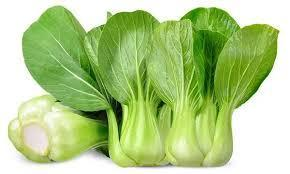Healthy-Pechay: (0, 7, 279, 165)
